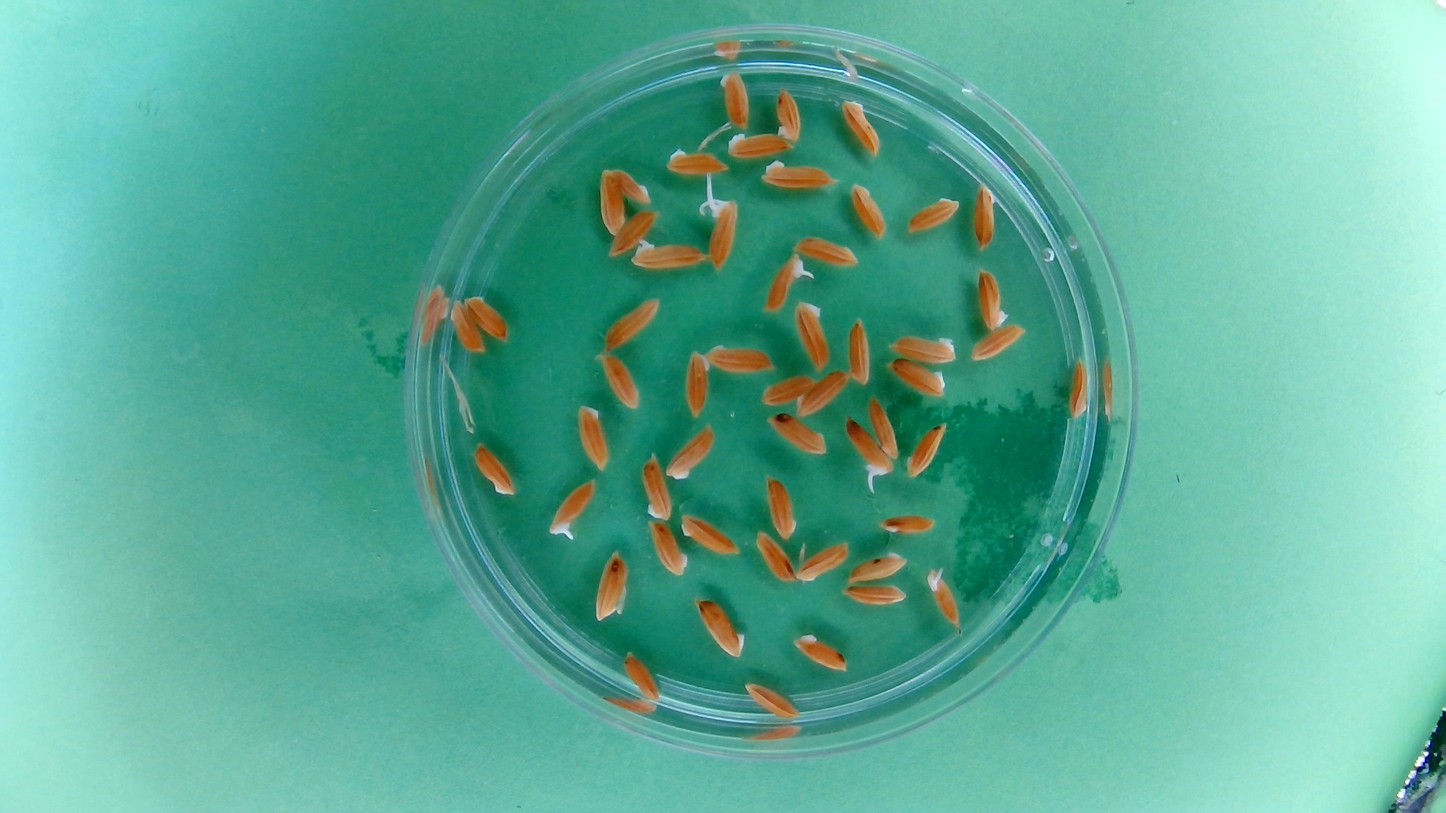no: (600, 294, 662, 353), (694, 594, 749, 660), (664, 422, 716, 483), (758, 157, 841, 195), (763, 410, 828, 458), (591, 547, 631, 623), (679, 510, 741, 558), (607, 205, 661, 260), (795, 367, 852, 419), (596, 349, 643, 412), (838, 95, 883, 160), (792, 297, 831, 371), (471, 440, 519, 498), (886, 357, 950, 400), (742, 677, 803, 722), (885, 330, 959, 367), (463, 290, 513, 344), (902, 193, 962, 238), (789, 630, 849, 675), (703, 341, 776, 377), (574, 402, 611, 473), (645, 519, 688, 580), (968, 322, 1029, 364), (907, 419, 949, 480), (790, 233, 861, 269), (752, 528, 796, 586), (848, 179, 889, 241), (795, 539, 850, 585), (639, 451, 674, 522), (763, 473, 800, 540), (595, 166, 630, 236), (447, 297, 487, 357), (975, 265, 1010, 333), (715, 66, 752, 130), (663, 143, 730, 178), (759, 371, 819, 410), (845, 550, 910, 586), (621, 647, 662, 704), (867, 393, 901, 460), (724, 129, 794, 161), (603, 164, 654, 207), (682, 347, 712, 418), (970, 181, 999, 252), (846, 315, 874, 387), (1065, 354, 1094, 423), (773, 84, 804, 145), (840, 582, 908, 609), (877, 510, 938, 536)
yes: (547, 477, 598, 540), (844, 417, 893, 479), (763, 253, 807, 313), (704, 196, 739, 269), (926, 566, 962, 629)
